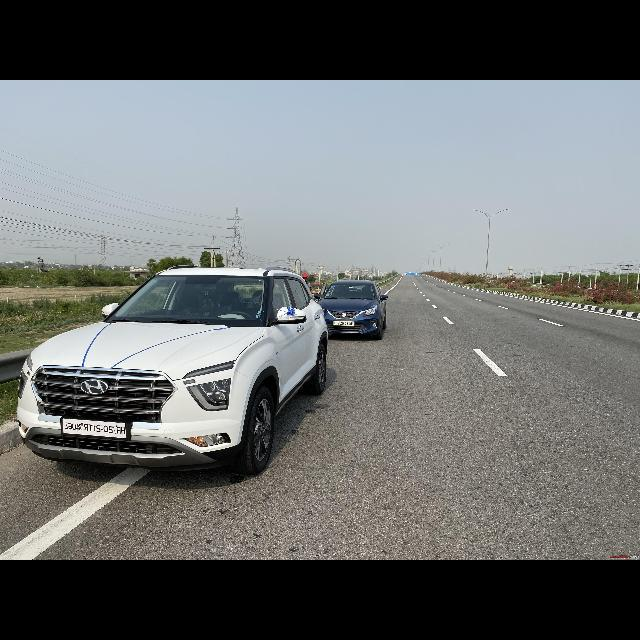number-plate: (58, 416, 135, 441), (334, 320, 355, 326)
vehicles: (32, 267, 298, 468), (321, 279, 389, 339)
